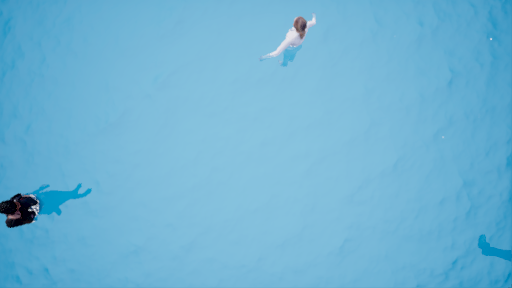person: (260, 13, 317, 69)
